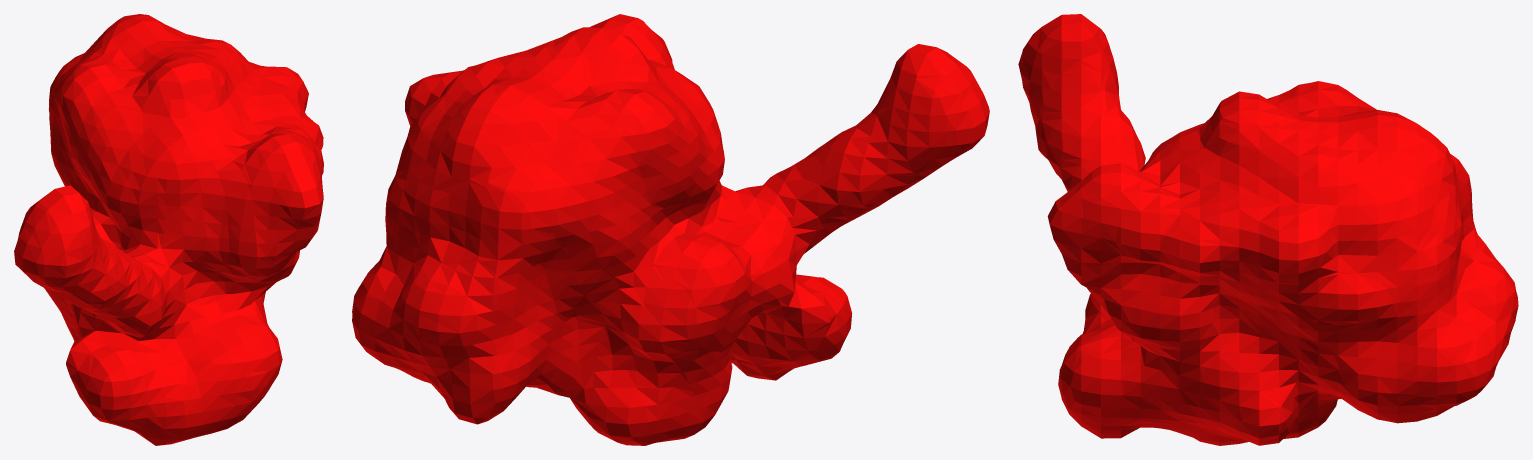
Rendered from Phosphatidylinositol_4_kinase__coarse.dae.
3 views of the same model, side by side, from view 1: azimuth 30°, elevation 25°; view 2: azimuth 150°, elevation 25°; view 3: azimuth 270°, elevation 25° (orthographic). The views are drawn at different scales.
Visible parts, largest first — view 1: Phosphatidylinositol_4_kinase_; view 2: Phosphatidylinositol_4_kinase_; view 3: Phosphatidylinositol_4_kinase_.
Part boxes in pixels (box(x1,y1,x2,y2)): Phosphatidylinositol_4_kinase_: box(14, 14, 323, 445); Phosphatidylinositol_4_kinase_: box(352, 14, 989, 445); Phosphatidylinositol_4_kinase_: box(1018, 14, 1518, 445).
Bounding box in the file's own units: 70.62 × 57.49 × 70.84.
